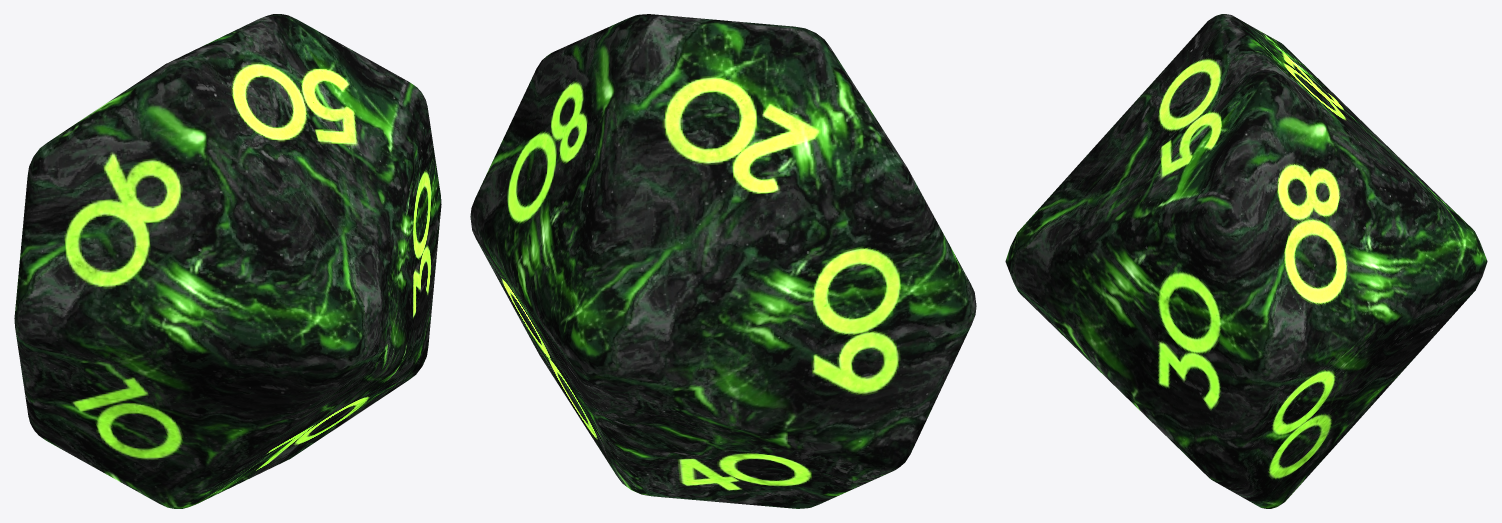
3 views of the same model, side by side, from view 1: azimuth 30°, elevation 25°; view 2: azimuth 150°, elevation 25°; view 3: azimuth 270°, elevation 25° (orthographic). The views are drawn at different scales.
Visible parts, largest first — view 1: dice_100; view 2: dice_100; view 3: dice_100.
Boxes of the visible parts, x1,y1,x2,y2 form: dice_100: (14, 14, 441, 508); dice_100: (470, 14, 976, 508); dice_100: (1005, 14, 1487, 508).
Bounding box in the file's own units: 171 × 164 × 165.
Materials: 1 (1 with a texture image).
